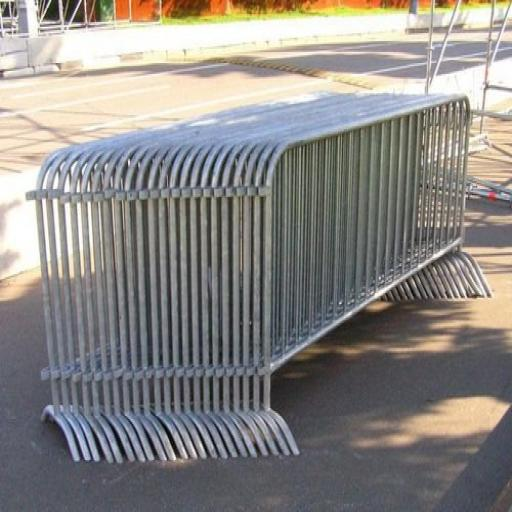chair: (29, 95, 490, 461)
